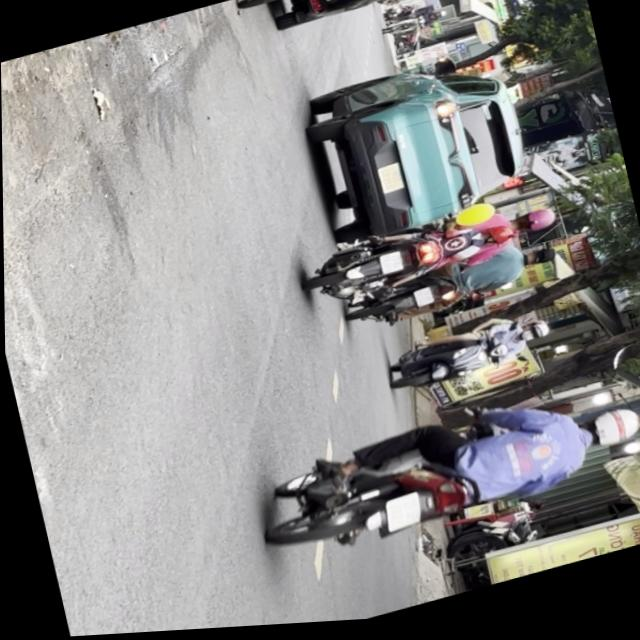helmet: (579, 410, 640, 460), (511, 210, 558, 242), (520, 326, 553, 349)
licenseplate: (252, 373, 640, 574), (298, 189, 565, 312), (340, 238, 563, 343), (381, 312, 557, 403)
motorcyclist: (523, 250, 556, 275)
nohelmet: (384, 497, 424, 535), (379, 254, 402, 277), (412, 290, 434, 313)
